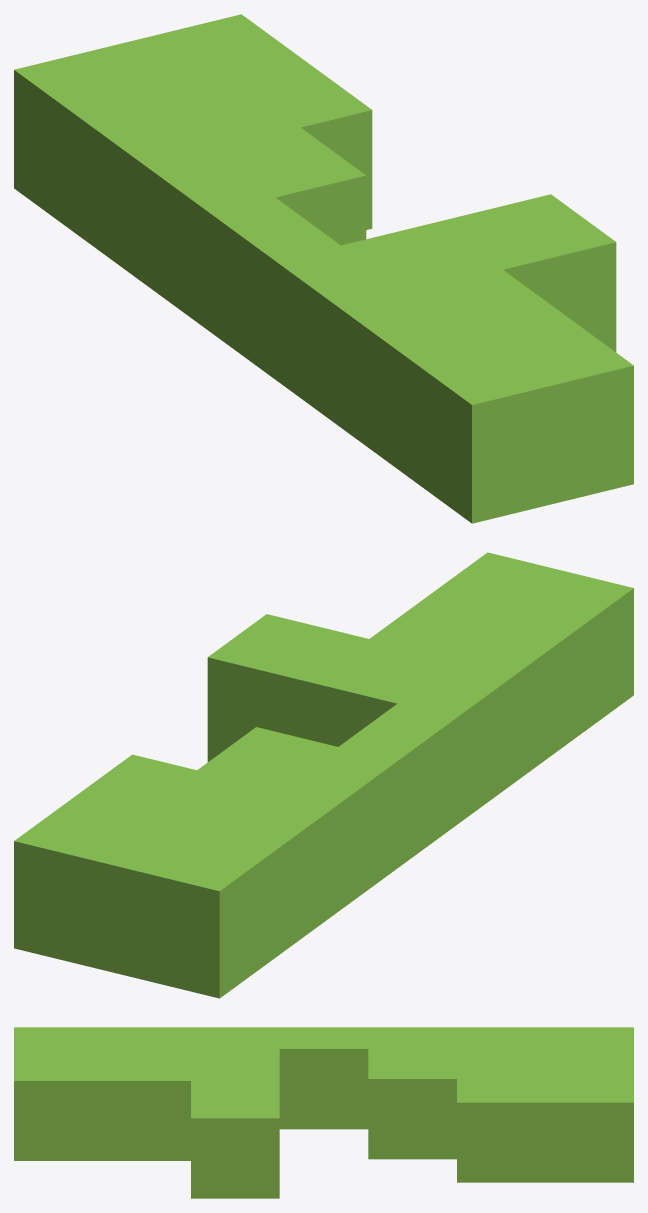
The model's file is x_zem_0_51_1_rmstrd.fbx.
The picture shows the model from 3 angles, top to bottom: view 1: azimuth 30°, elevation 25°; view 2: azimuth 150°, elevation 25°; view 3: azimuth 270°, elevation 25°; orthographic projection. The views are drawn at different scales.
Parts seen in each view (by area): view 1: x_zem_0_51_1_rmstrd1; view 2: x_zem_0_51_1_rmstrd1; view 3: x_zem_0_51_1_rmstrd1.
Boxes of the visible parts, x1,y1,x2,y2 form: x_zem_0_51_1_rmstrd1: (14, 14, 633, 523); x_zem_0_51_1_rmstrd1: (14, 552, 633, 998); x_zem_0_51_1_rmstrd1: (14, 1027, 633, 1198).
Size of the model in its own units: 2.43 by 1 by 7.
